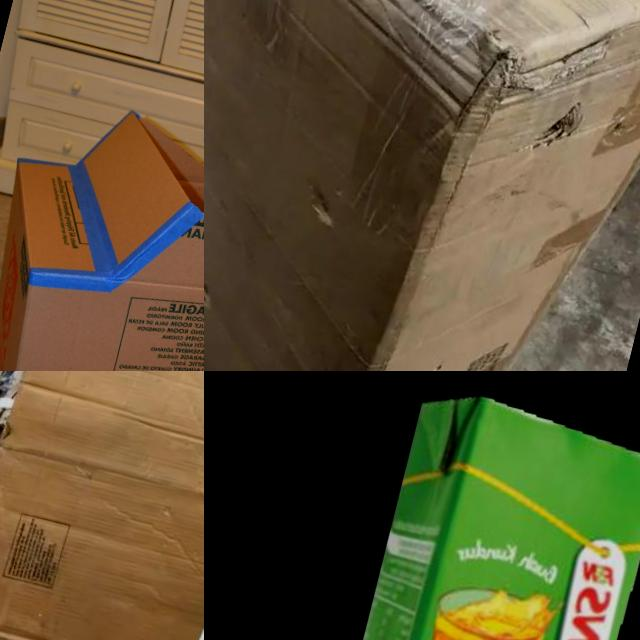caixinha: (289, 382, 640, 640)
papelão: (204, 0, 640, 371), (0, 84, 204, 371), (0, 371, 204, 640)
